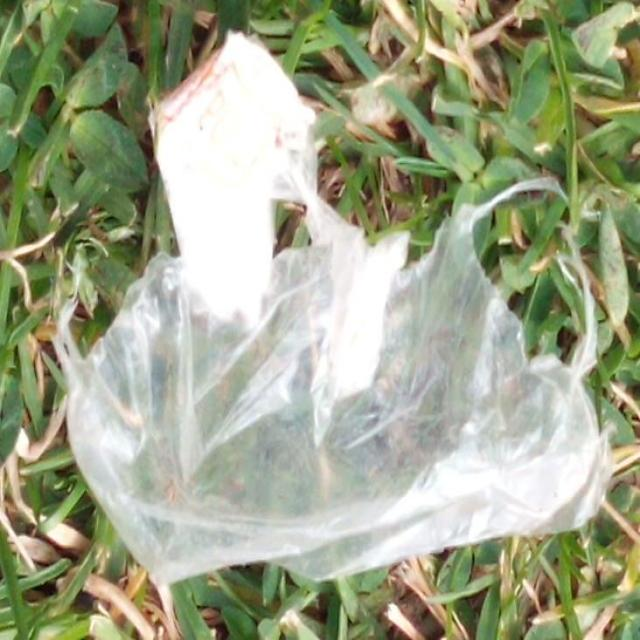litter: (68, 33, 611, 581)
